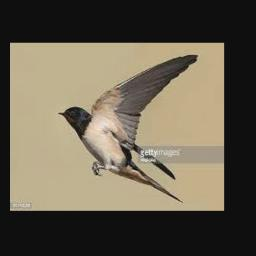Swallow: (57, 54, 198, 203)
